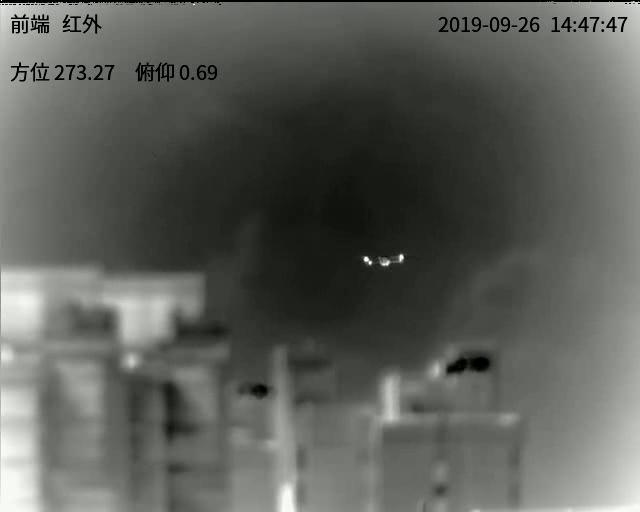DRONE: (362, 251, 406, 269)
